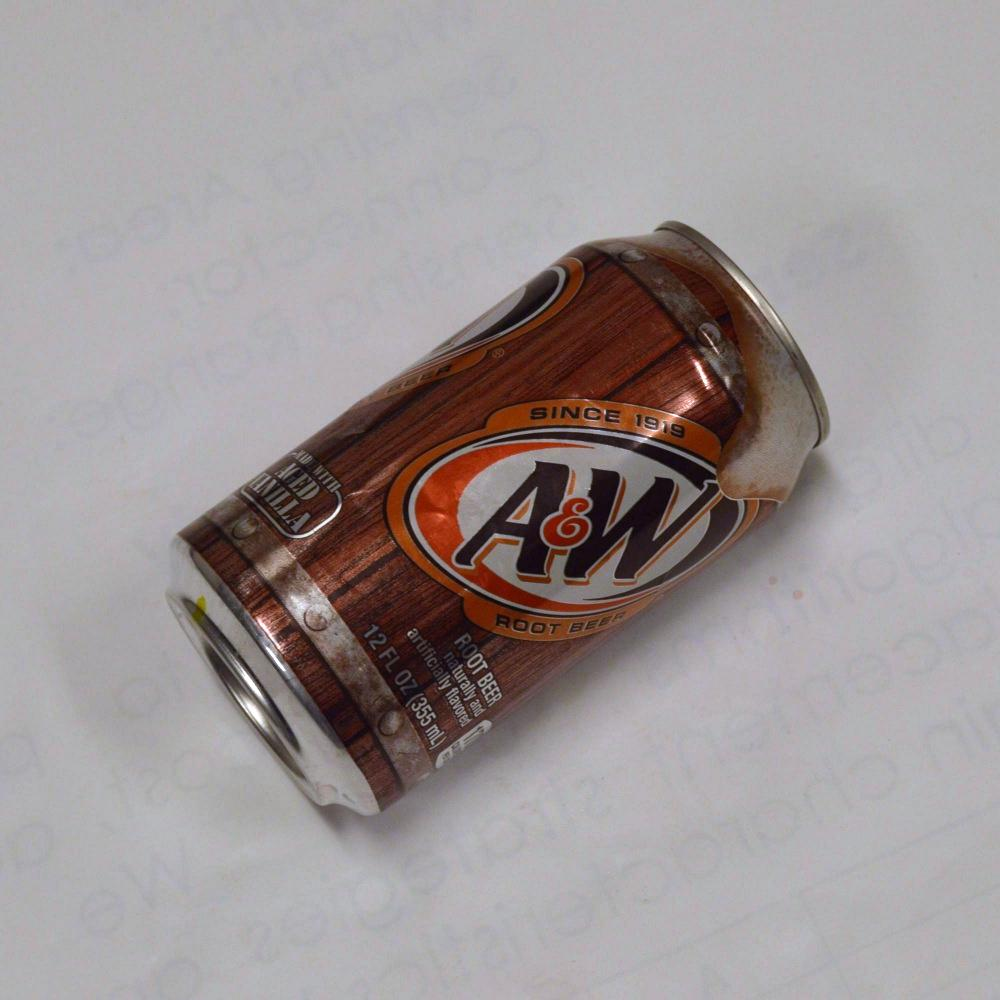Metal: (128, 128, 846, 848)
